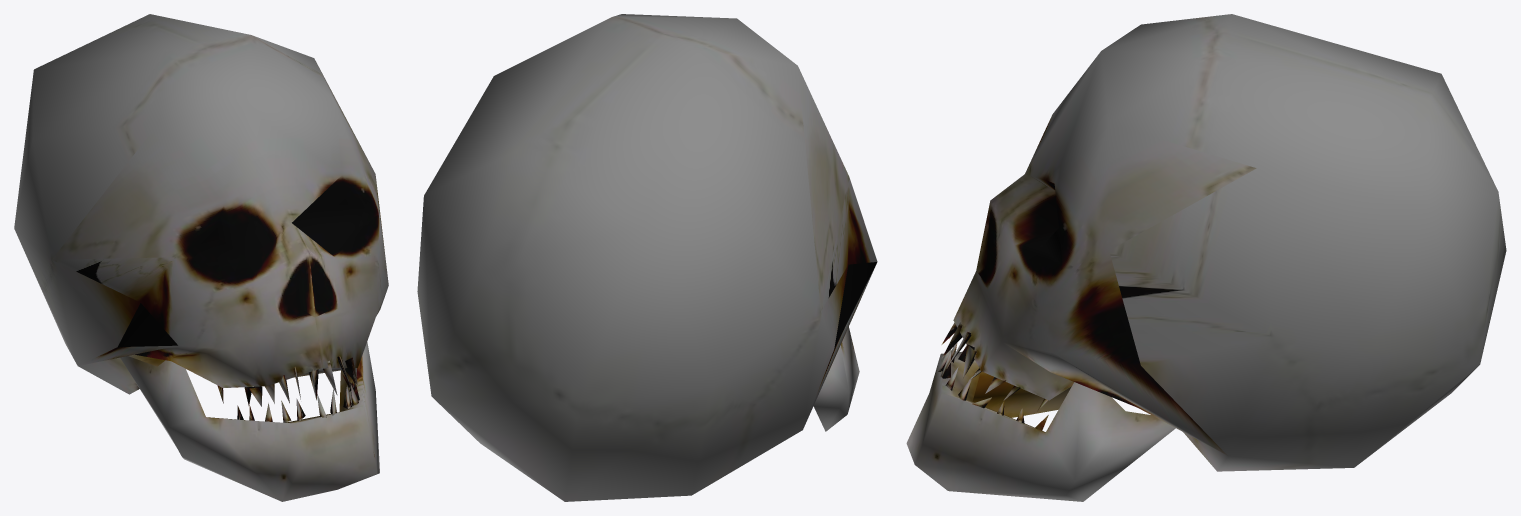
File: Dungeon_Skull_1.glb
The picture shows the model from 3 angles, left to right: view 1: azimuth 30°, elevation 25°; view 2: azimuth 150°, elevation 25°; view 3: azimuth 270°, elevation 25°; orthographic projection. The views are drawn at different scales.
Parts seen in each view (by area): view 1: Dungeon_Skull_1; view 2: Dungeon_Skull_1; view 3: Dungeon_Skull_1.
Boxes of the visible parts, box(x1,y1,x2,y2) form: Dungeon_Skull_1: box(14, 14, 388, 501); Dungeon_Skull_1: box(417, 14, 877, 501); Dungeon_Skull_1: box(906, 14, 1506, 501).
Bounding box in the file's own units: 0.2447 × 0.2887 × 0.3685.
1 material, 1 textured.
